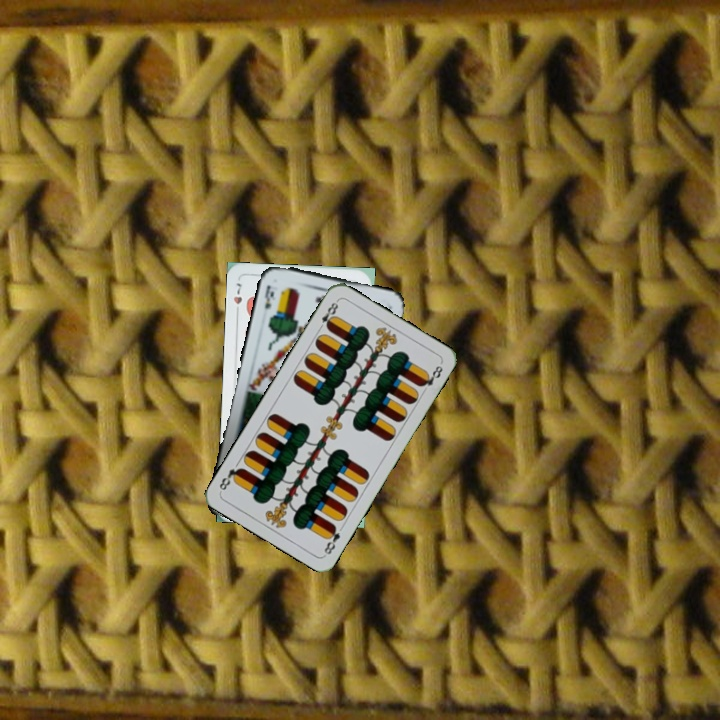E8: (314, 297, 341, 333), (320, 521, 343, 558)
EK: (260, 281, 278, 312)
H7: (229, 279, 244, 318)
